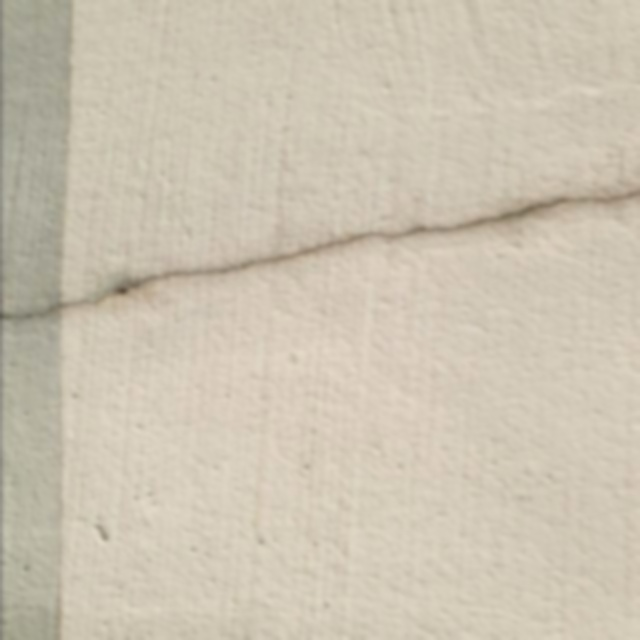SurfaceCrack: (65, 159, 640, 333)
